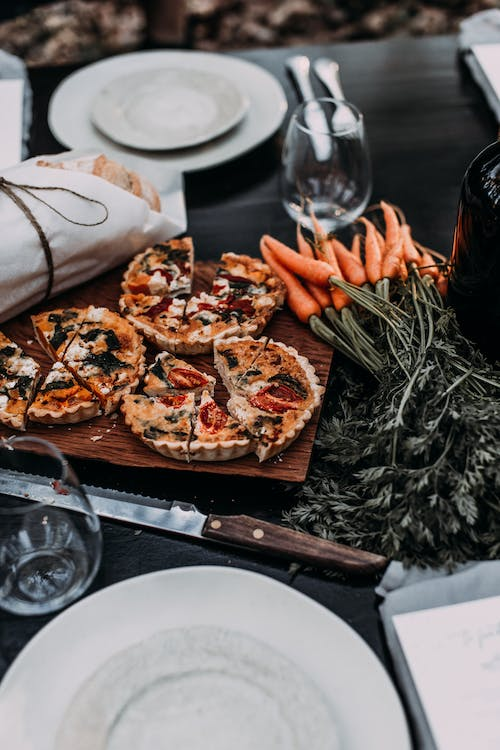knife: (0, 464, 389, 576), (284, 53, 335, 165)
